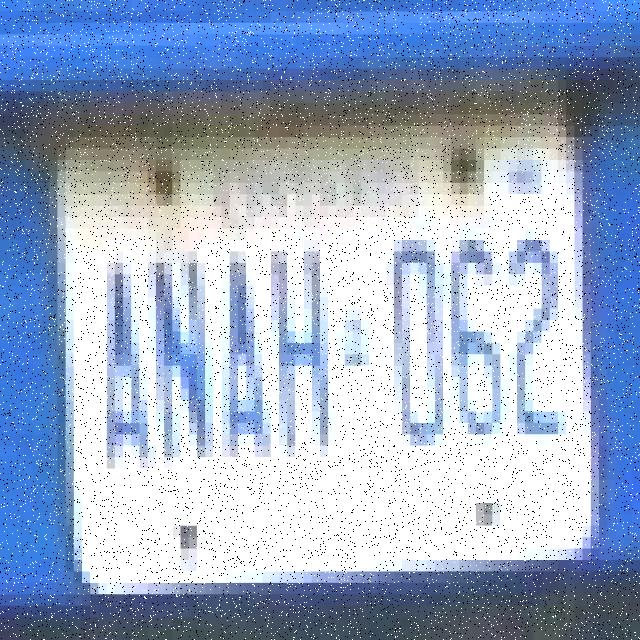licenseplate: (37, 71, 604, 600)
